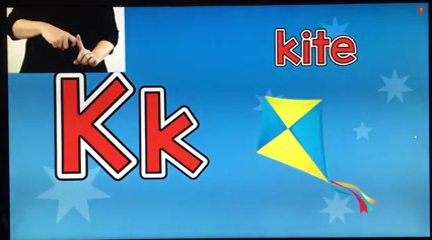K: (31, 15, 109, 69)
